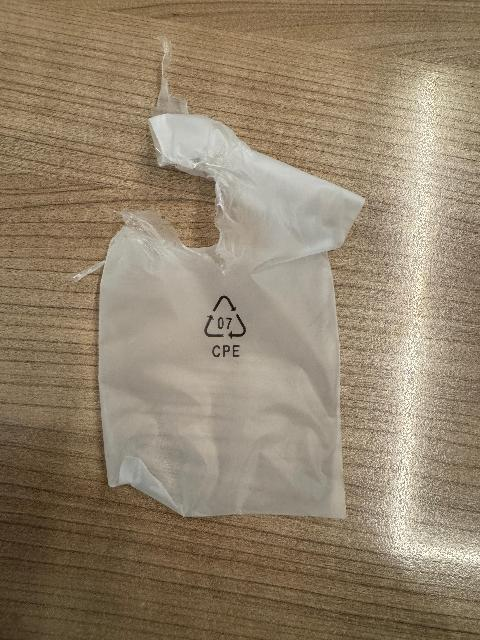Plastik: (92, 113, 351, 530)
